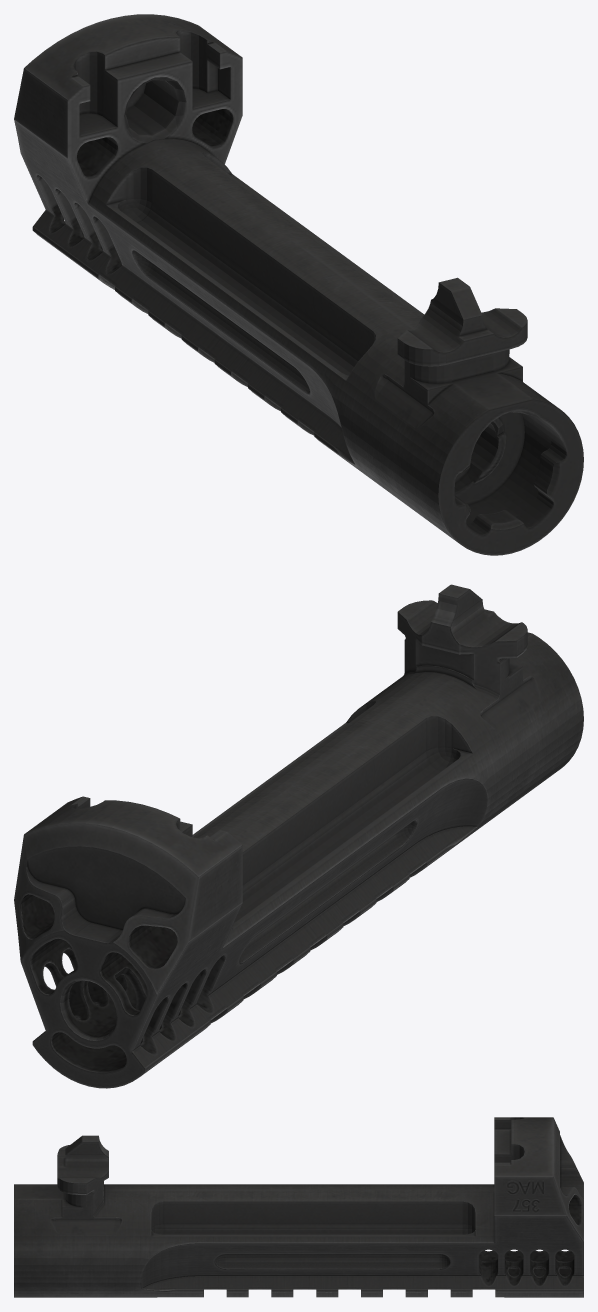
3 views of the same model, one above another, from view 1: azimuth 30°, elevation 25°; view 2: azimuth 150°, elevation 25°; view 3: azimuth 270°, elevation 25° (orthographic). The views are drawn at different scales.
Visible parts, largest first — view 1: TW_669fa4c61bd4416eaa09b3ca_PZ_Import; view 2: TW_669fa4c61bd4416eaa09b3ca_PZ_Import; view 3: TW_669fa4c61bd4416eaa09b3ca_PZ_Import.
Boxes of the visible parts, x1,y1,x2,y2 form: TW_669fa4c61bd4416eaa09b3ca_PZ_Import: [14, 14, 583, 555]; TW_669fa4c61bd4416eaa09b3ca_PZ_Import: [14, 584, 583, 1088]; TW_669fa4c61bd4416eaa09b3ca_PZ_Import: [14, 1117, 583, 1297].
Size of the model in its own units: 0.0191 by 0.0798 by 0.0253.
Materials: 1 (1 with a texture image).
